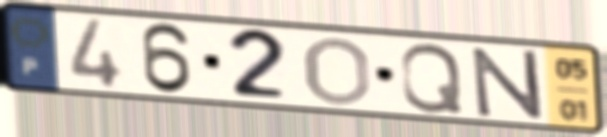2: (220, 27, 298, 104)
4: (66, 16, 127, 91)
6: (138, 20, 194, 96)
N: (468, 46, 548, 122)
O: (301, 34, 374, 108)
Q: (397, 41, 466, 116)
